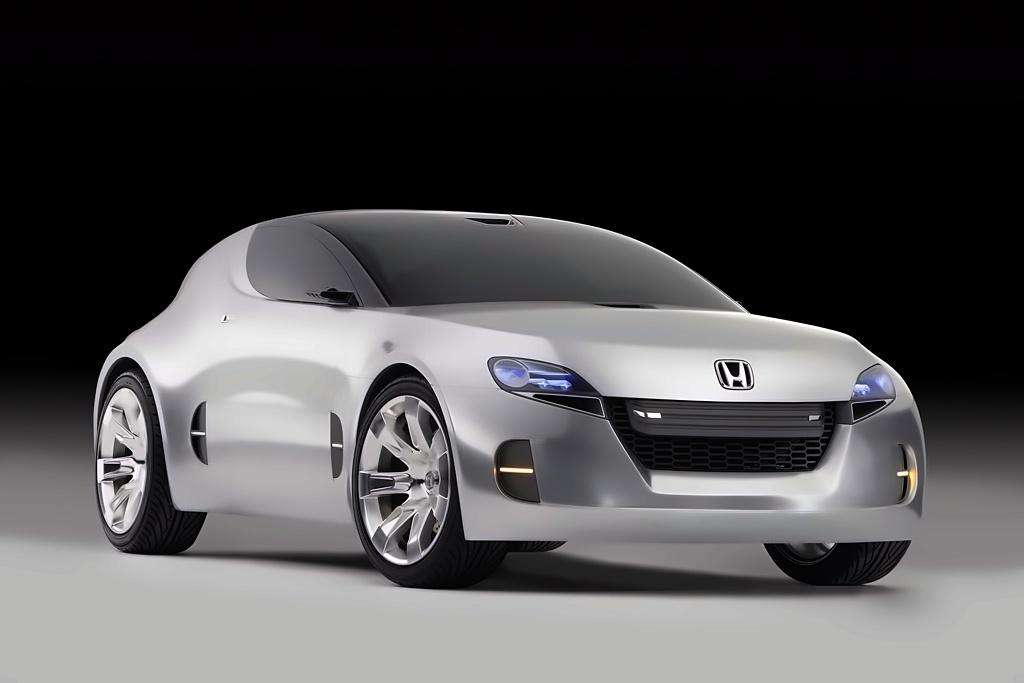Car hood: (391, 295, 869, 356)
Driver-s door - -F-R-: (215, 217, 371, 526)
Front bumper: (446, 392, 934, 545)
Headlight - -L-: (847, 363, 897, 426)
Headlight - -R-: (486, 357, 610, 421)
Side bumper - -R-: (161, 465, 358, 534)
